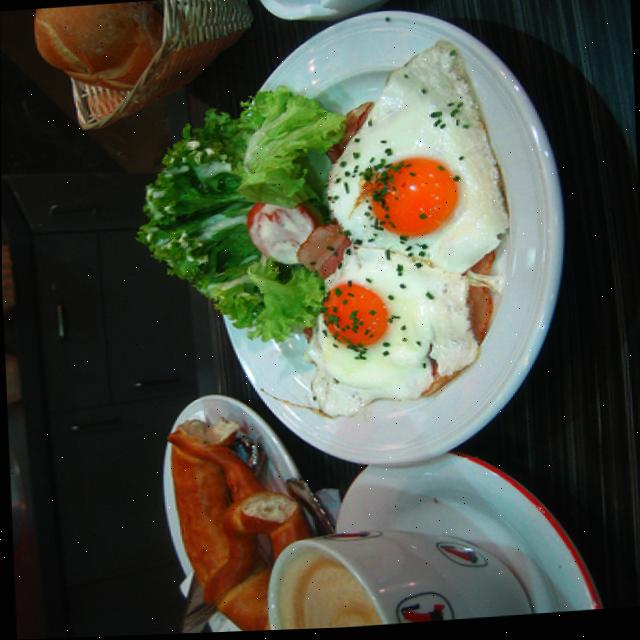鸡蛋料理: (299, 46, 570, 407)
